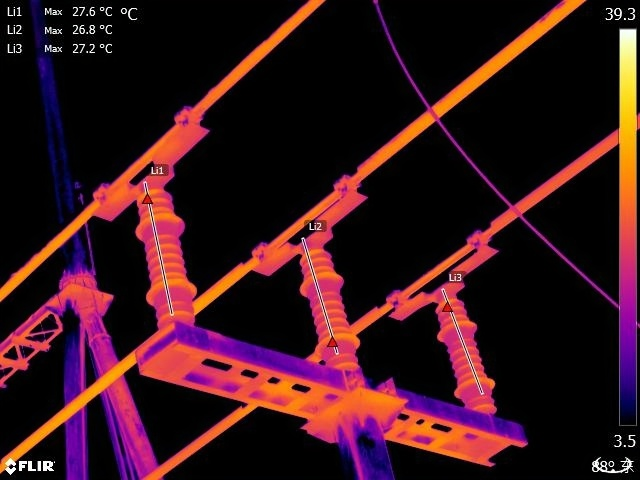post insulator: (133, 187, 207, 331), (294, 242, 366, 371), (439, 293, 503, 409)
